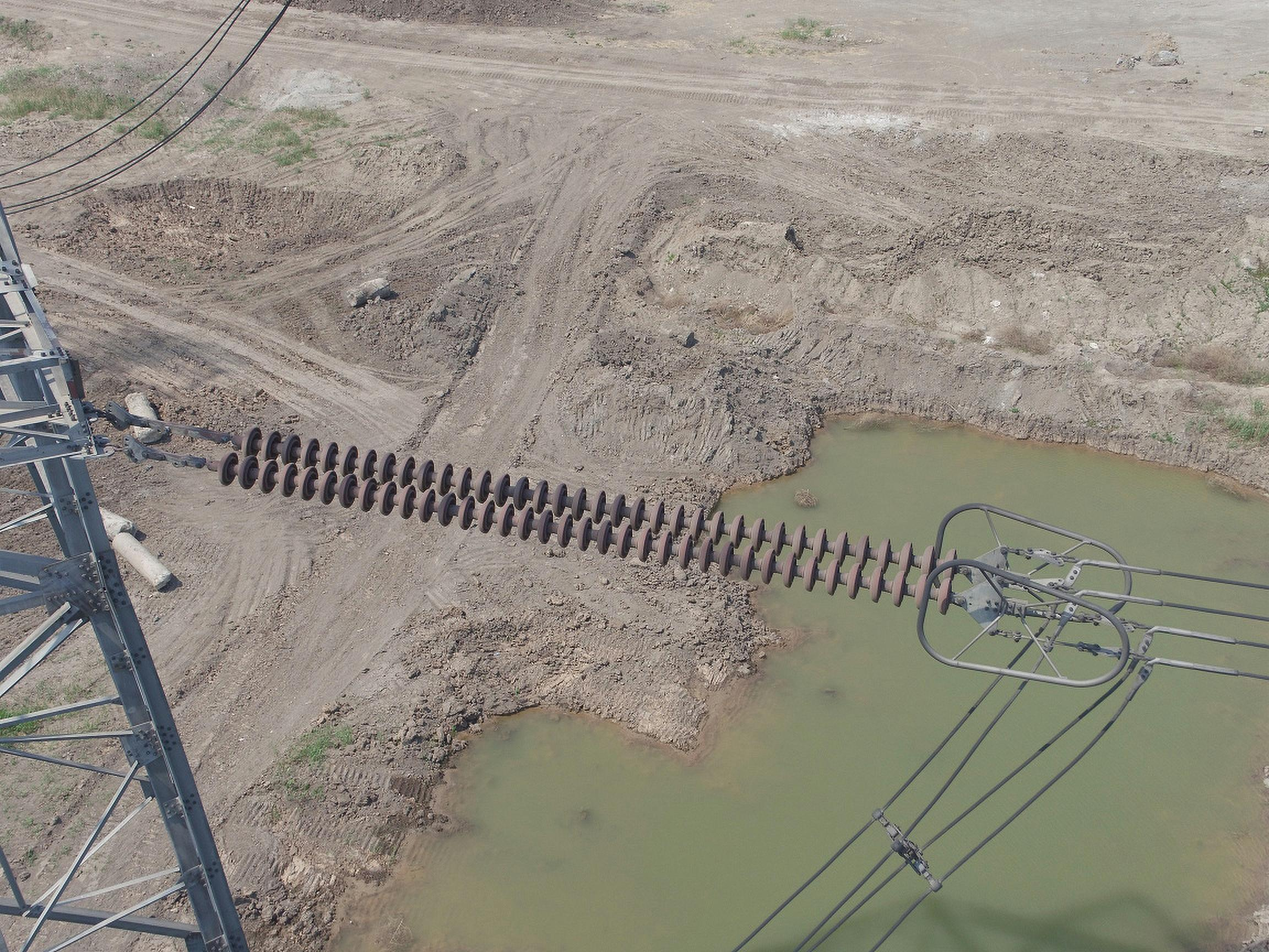insulator: (213, 422, 961, 619)
